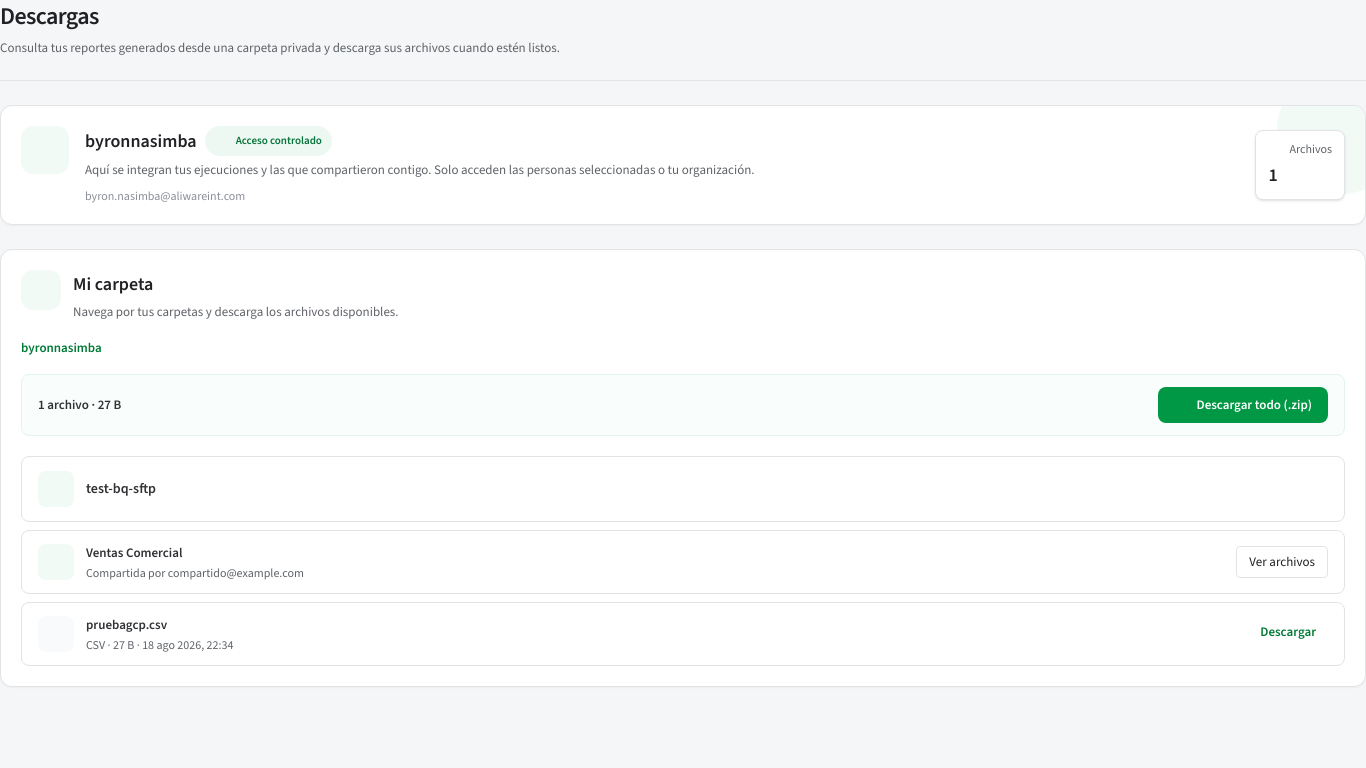
Test: expande una descarga compartida y muestra sus archivos
Step 1. Click the button "Ver archivos" → (1282, 562), box 1236,546 -> 1328,578
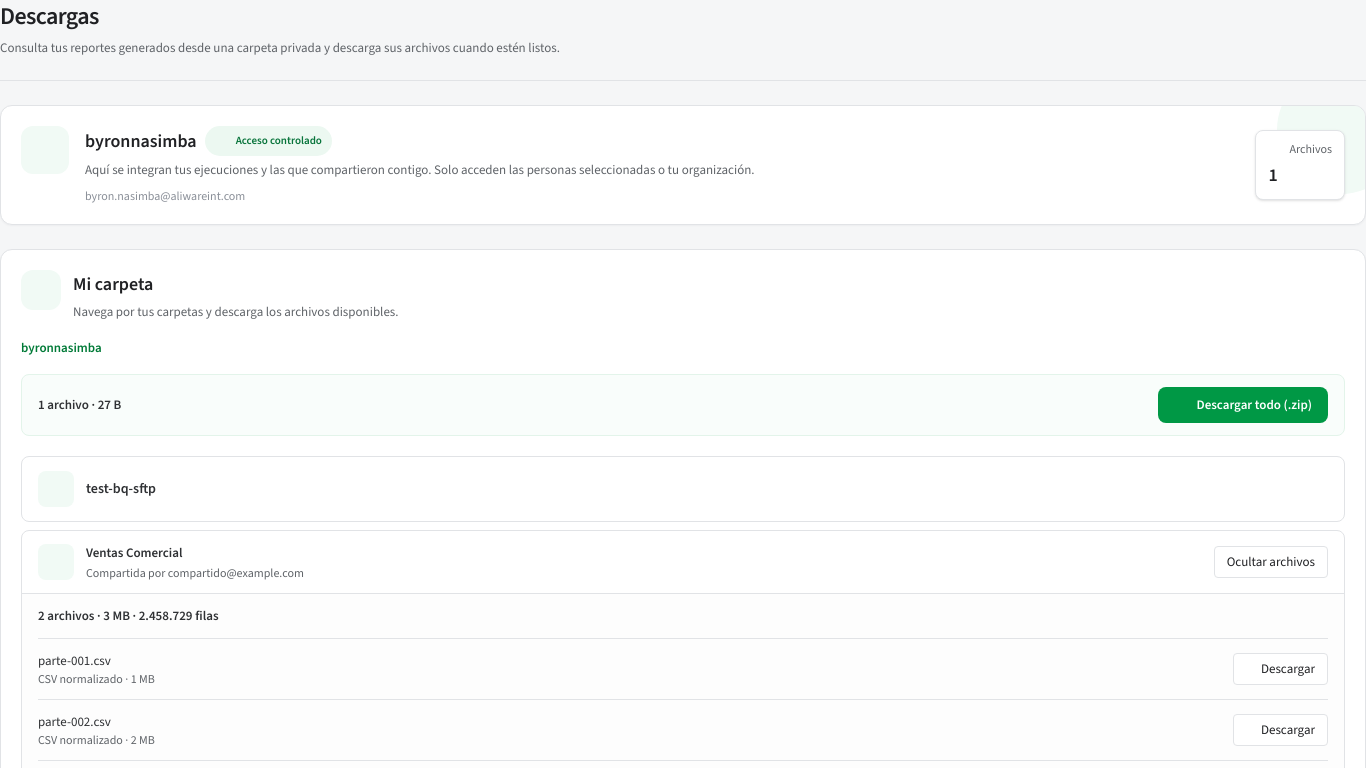
Check: the text "parte-001.csv" is shown, box 38,652 -> 111,669
Check: the text "2 archivos · 3 MB" is shown, box 38,594 -> 1328,639
Check: the text "2.458.729 filas" is shown, box 130,607 -> 218,624
